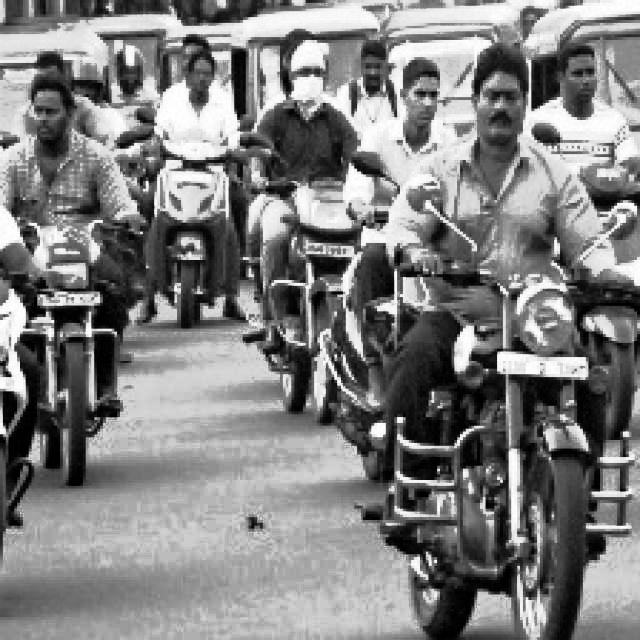Bike: (408, 289, 605, 618), (13, 199, 131, 485), (268, 168, 354, 412), (158, 140, 242, 354)
